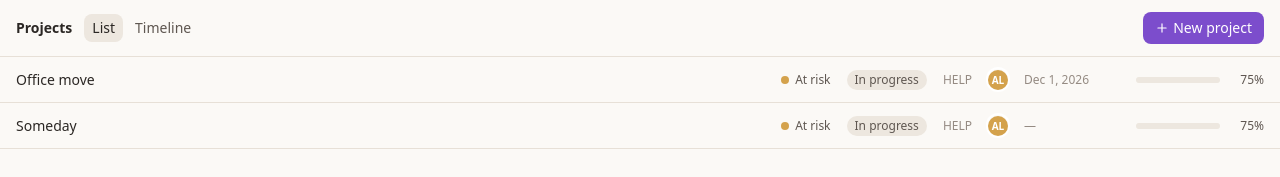
Test: ProjectsPage › shows dated projects on a timeline and counts the undated ones
Check: the link "Office move At risk In progress HELP AL Dec 1, 2026 75%" is shown, box [16, 69, 1264, 90]
Click the button "Timeline" at (163, 28), box [127, 14, 199, 42]
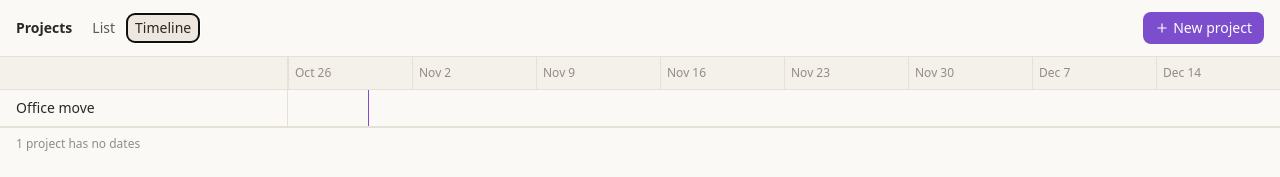
Check: the link "Someday" is gone
Check: the text "1 project has no dates" is shown, box [0, 127, 1279, 160]
